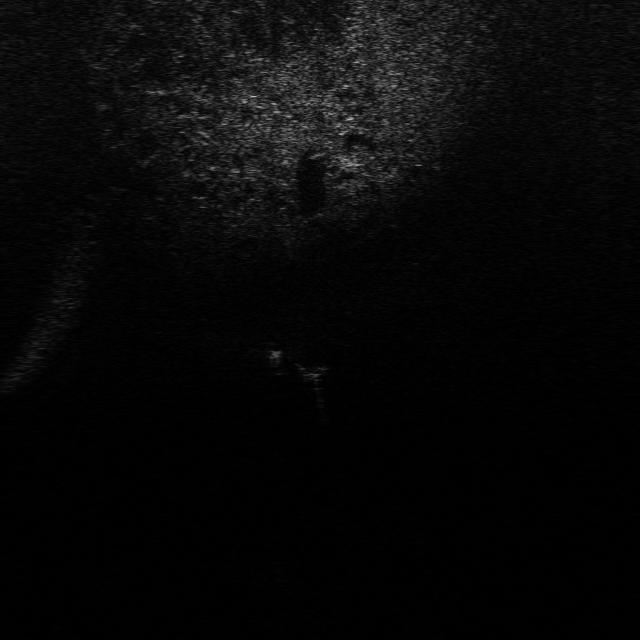cube: (293, 359, 329, 382)
cylinder: (260, 346, 284, 372)
